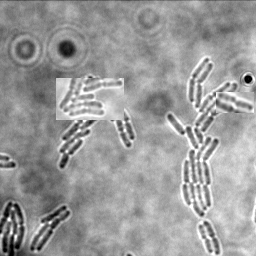Dividing: (216, 92, 254, 113), (204, 219, 222, 255), (199, 223, 215, 253)
Microcolony: (167, 57, 238, 216), (59, 75, 136, 169), (56, 78, 124, 120), (30, 204, 72, 251), (1, 200, 26, 255)
